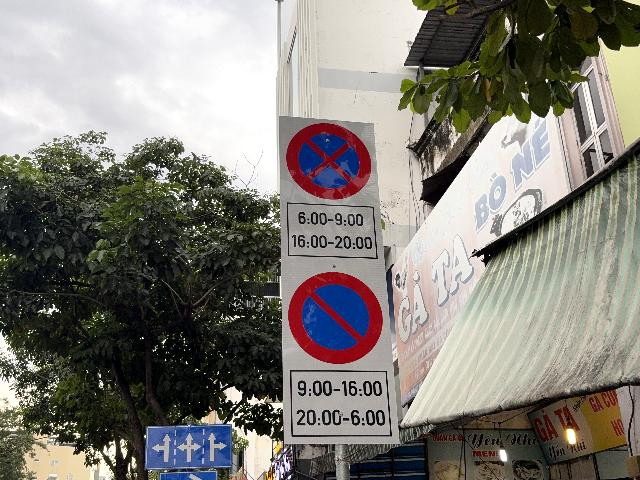cam-do-xe: (288, 272, 383, 363)
cam-dung-va-do-xe: (285, 122, 372, 200)
